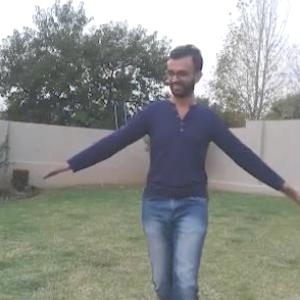land: (47, 42, 284, 299)
